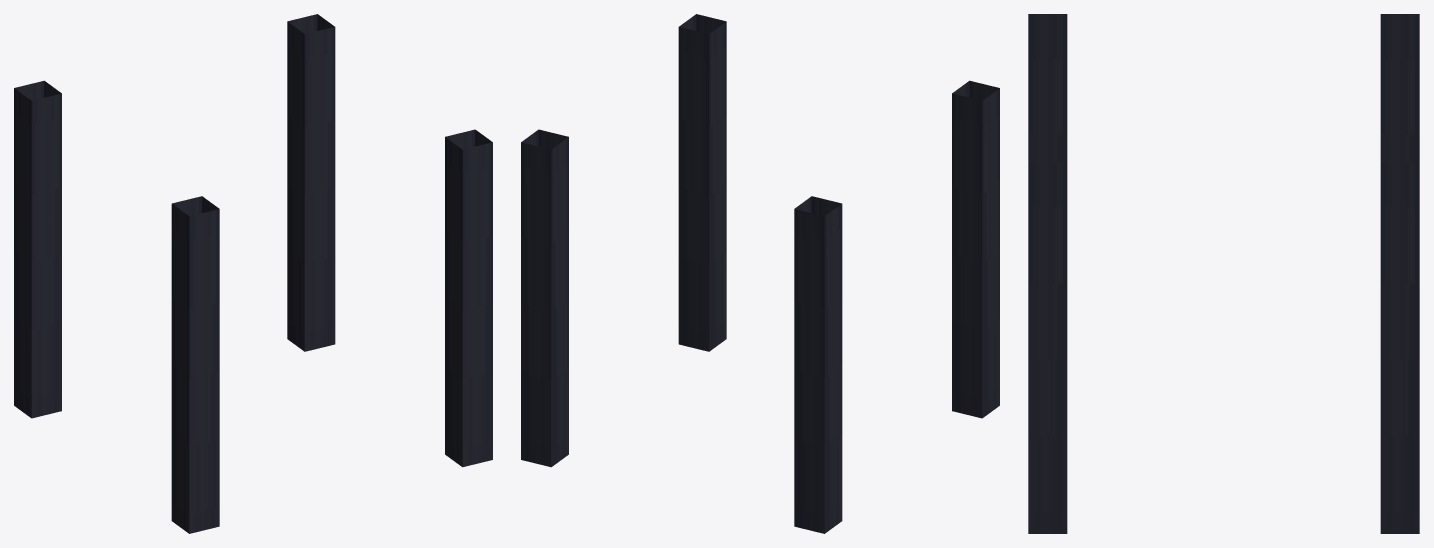
Rendered from glasscube_full.obj.
3 renders of one model, left to right at view 1: azimuth 30°, elevation 25°; view 2: azimuth 150°, elevation 25°; view 3: azimuth 270°, elevation 25°, orthographic. The views are drawn at different scales.
Visible parts, largest first — view 1: Cube.001_Cube.000; view 2: Cube.001_Cube.000; view 3: Cube.001_Cube.000.
Part boxes in pixels (left/top/right/bottom): Cube.001_Cube.000: left=14, top=14, right=492, bottom=533; Cube.001_Cube.000: left=521, top=14, right=999, bottom=533; Cube.001_Cube.000: left=1028, top=14, right=1419, bottom=533.
Bounding box in the file's own units: 1 × 1 × 1.
